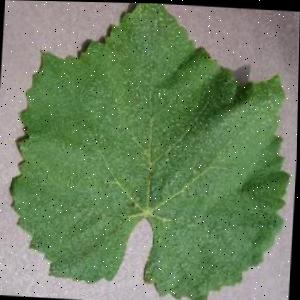Folha: (3, 0, 298, 300)
